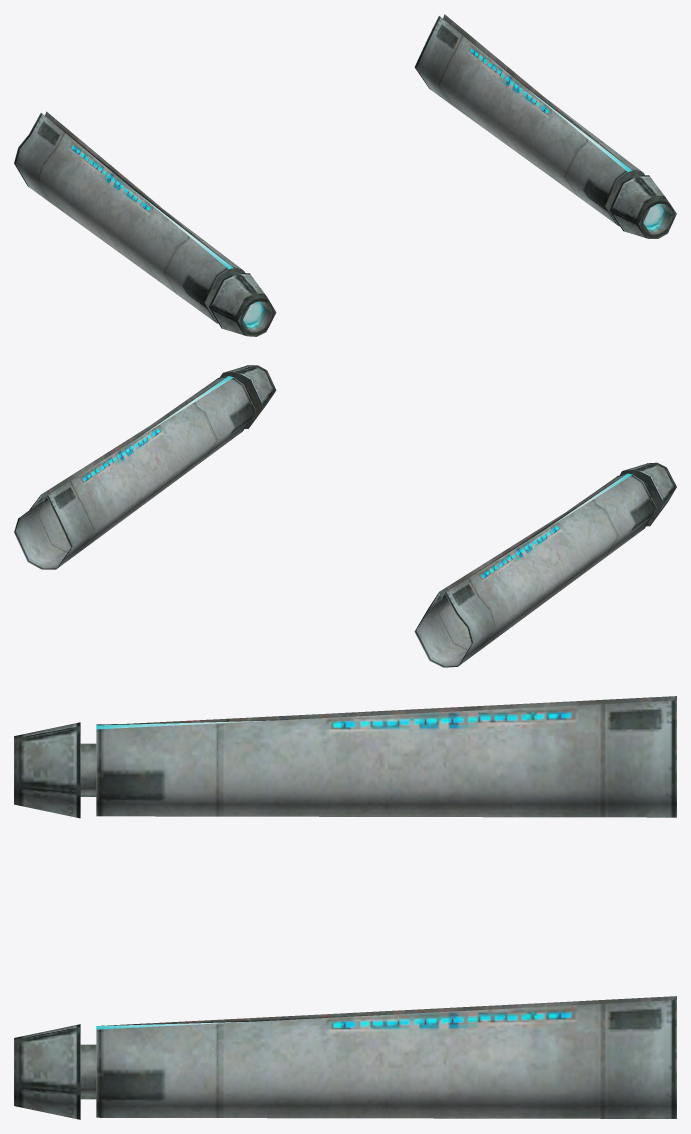
Rendered from hutt_fighter_heavy_weapon1_s02_l1.fbx.
3 views of the same model, one above another, from view 1: azimuth 30°, elevation 25°; view 2: azimuth 150°, elevation 25°; view 3: azimuth 270°, elevation 25° (orthographic). The views are drawn at different scales.
Visible parts, largest first — view 1: mesh_node; view 2: mesh_node; view 3: mesh_node.
Part boxes in pixels (left/top/right/bottom): mesh_node: left=14, top=14, right=676, bottom=336; mesh_node: left=14, top=365, right=676, bottom=667; mesh_node: left=14, top=696, right=676, bottom=1119.
Size of the model in its own units: 2.72 by 0.4292 by 2.21.
1 material, 1 textured.
